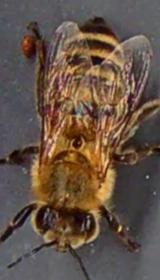varroa_mite: (19, 33, 36, 56)
